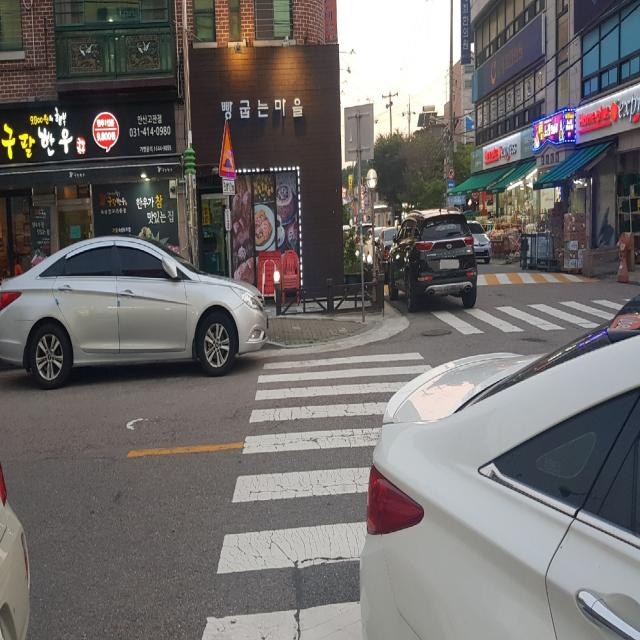횡단보도: (202, 352, 433, 640)
